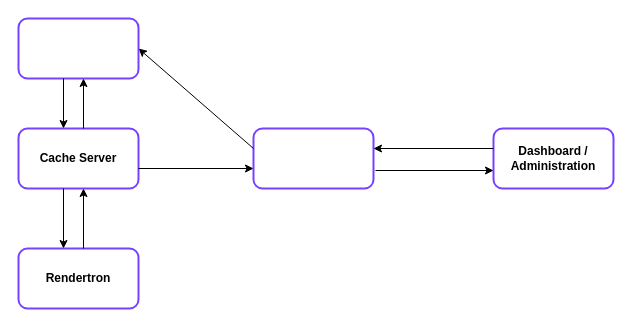
Some shapes in this 631 by 326 pixel diagram are drawn without their labels. Each missing label, with the centre of its shape:
"Cache Warmer" belongs at (x=313, y=158).
"Nginx" belongs at (x=78, y=48).
